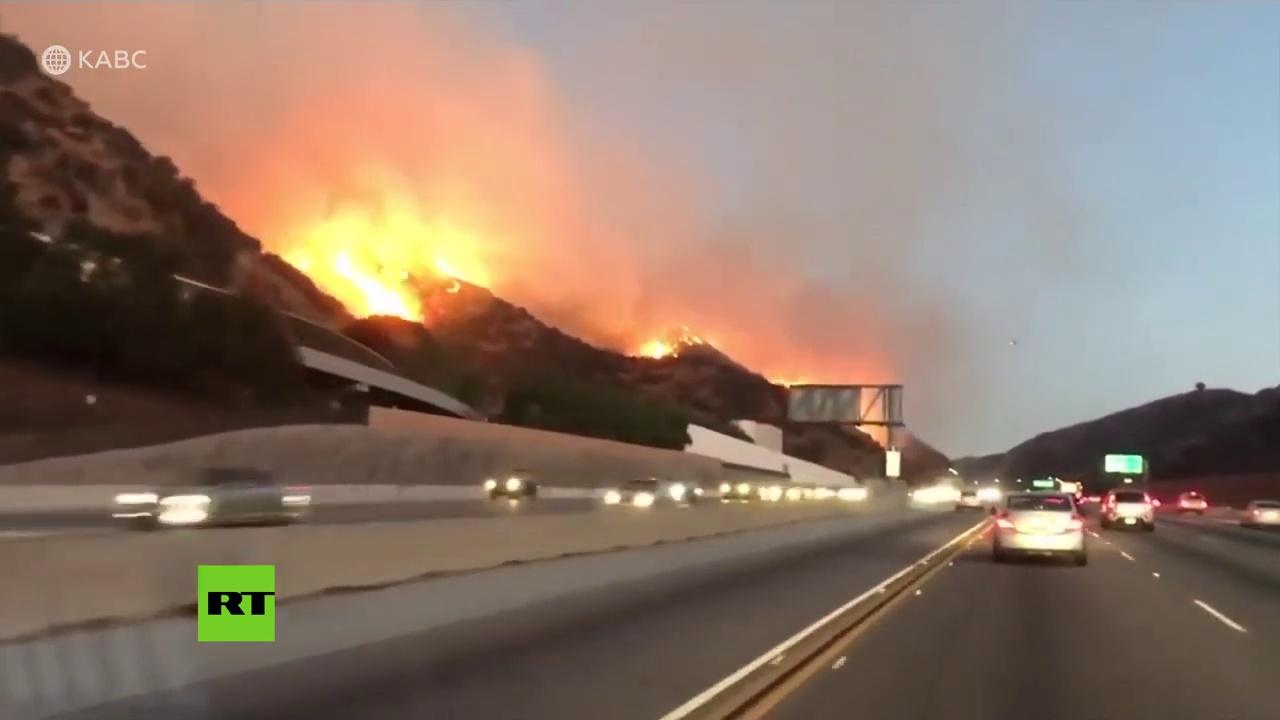Fire: (263, 206, 494, 329), (633, 328, 707, 366), (773, 373, 816, 391)
